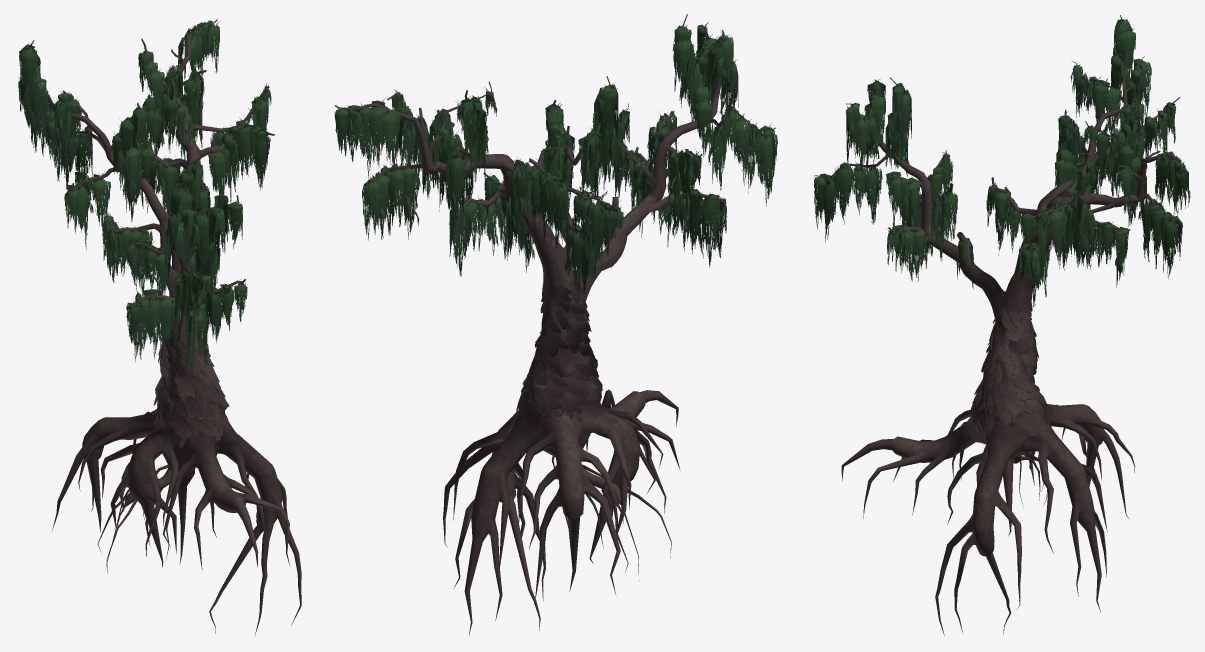
3 views of the same model, side by side, from view 1: azimuth 30°, elevation 25°; view 2: azimuth 150°, elevation 25°; view 3: azimuth 270°, elevation 25° (orthographic). The views are drawn at different scales.
Parts seen in each view (by area): view 1: SM_SwampTree_03_LOD0; view 2: SM_SwampTree_03_LOD0; view 3: SM_SwampTree_03_LOD0.
Part boxes in pixels (x1,y1,x2,y2): SM_SwampTree_03_LOD0: (18, 19, 301, 636); SM_SwampTree_03_LOD0: (334, 14, 777, 635); SM_SwampTree_03_LOD0: (813, 15, 1190, 635).
Size of the model in its own units: 12.01 by 28.5 by 17.54.
Materials: 2 (2 with a texture image).
